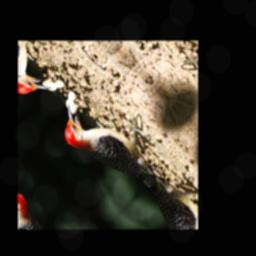Woodpecker: (50, 71, 178, 203)
